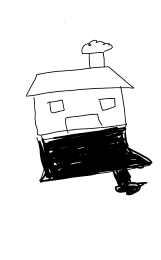door: (64, 112, 105, 133)
open_window: (45, 98, 68, 115), (97, 96, 118, 113)
roof: (21, 66, 137, 98)
shadow: (19, 125, 155, 197)
smoking_chimney: (74, 30, 117, 73)
wall: (31, 82, 127, 137)
